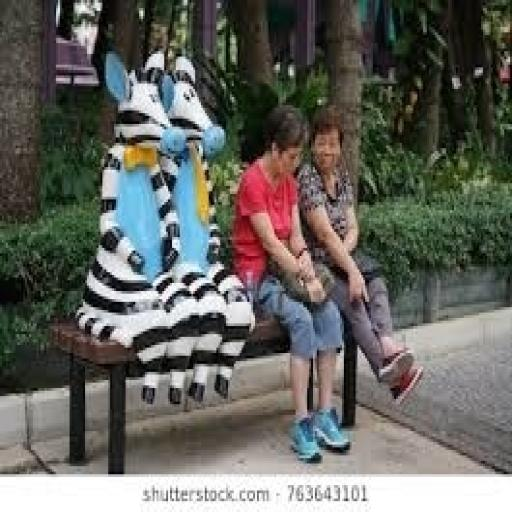sitting: (230, 100, 352, 464), (296, 105, 425, 407)
